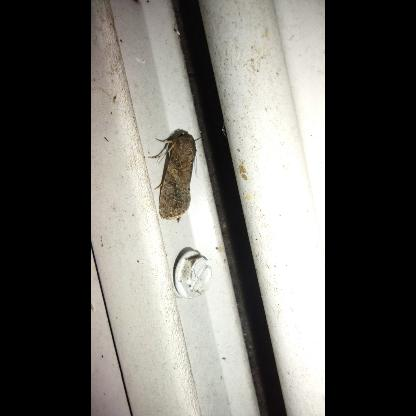Fall Armyworm Moth: (146, 130, 204, 224)
